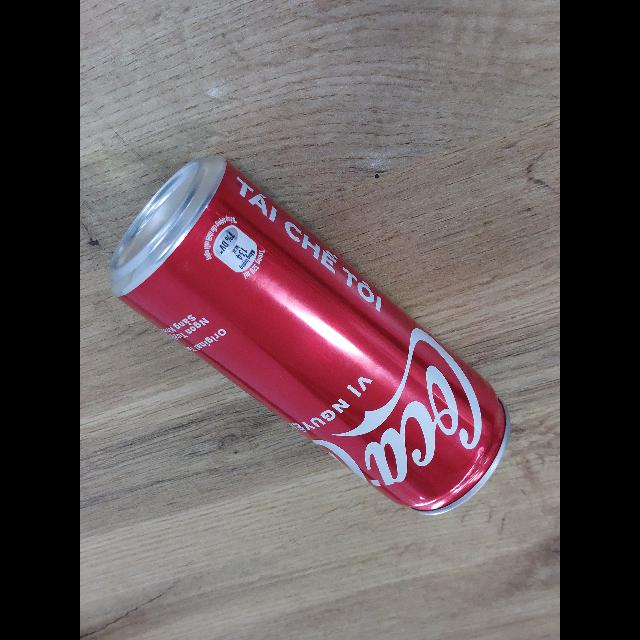coca_cola: (109, 155, 510, 515)
